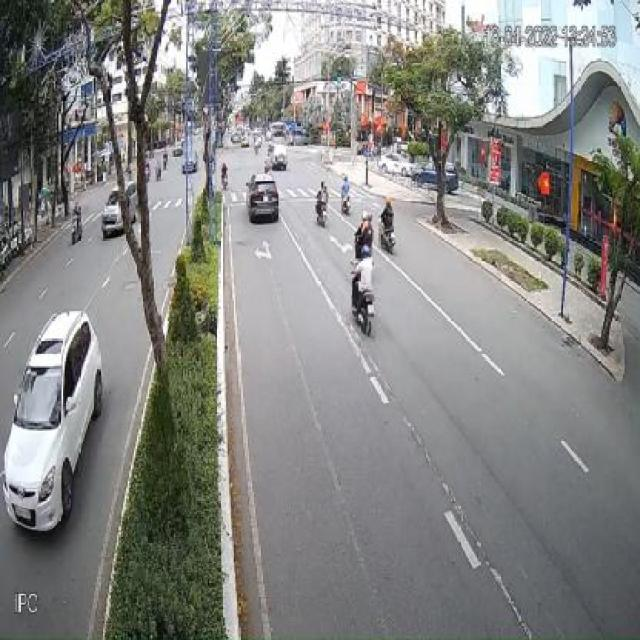car: (0, 310, 102, 537), (102, 178, 138, 239), (251, 176, 282, 226), (270, 146, 288, 172)
motorbike: (351, 261, 375, 337), (380, 200, 396, 256), (355, 212, 374, 258), (313, 187, 328, 228), (70, 203, 82, 247), (339, 176, 351, 212), (218, 160, 228, 190)
